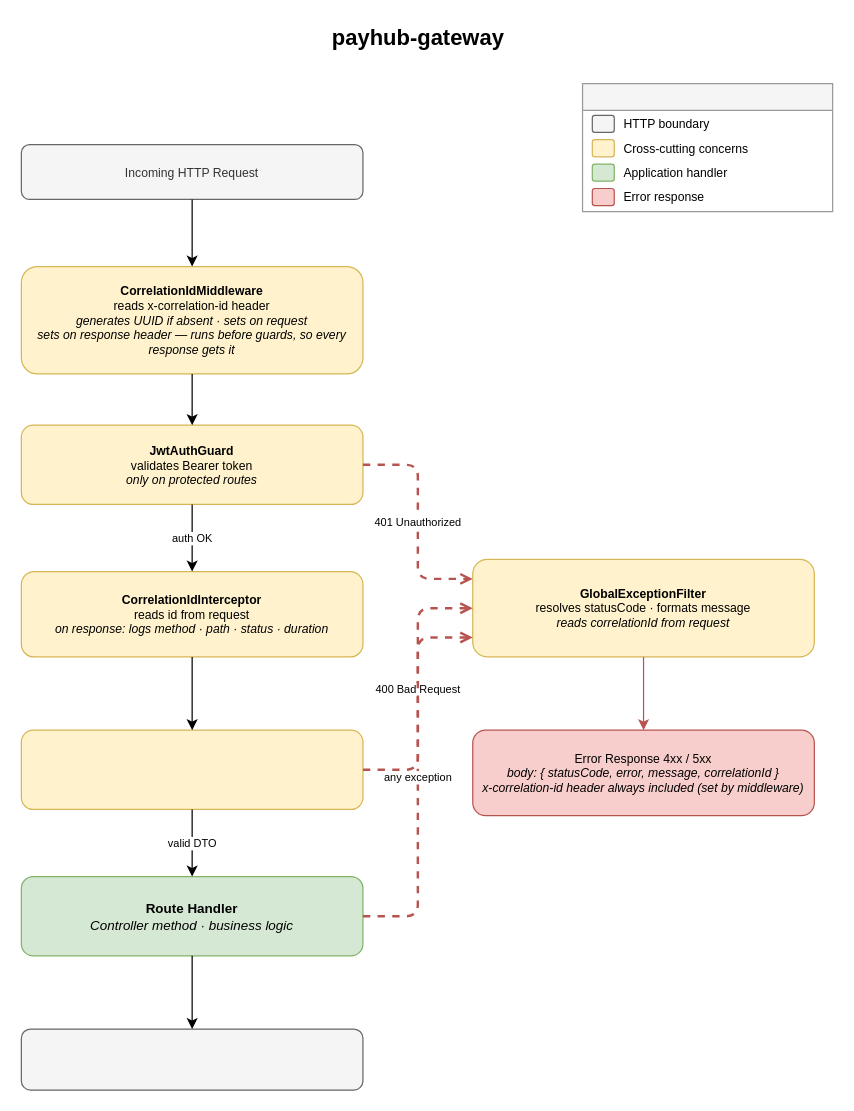
The diagram is 854 pixels wide and 1111 high, and some of its shapes have lost their labels. The shapes that lost their labels are listed below. From the top down, each one's box as (x1, y1, x2, y2) in pixels, then its label:
(581, 82, 833, 212): Legend
(20, 729, 363, 809): ValidationPipe validates & transforms DTO whitelist · forbidNonWhitelisted
(20, 1028, 363, 1090): Response 2xx x-correlation-id header always included (set by middleware)
